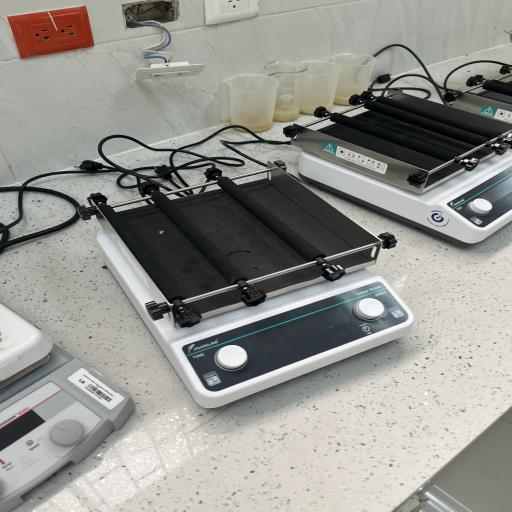Agitador_Orbital_DLAB: (53, 164, 463, 420)
